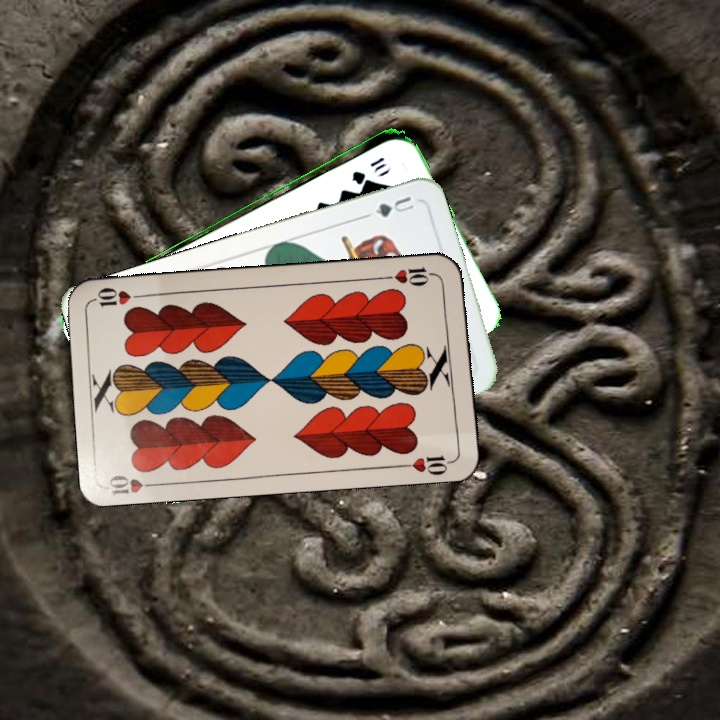G10: (347, 153, 387, 184)
GU: (371, 192, 417, 220)
H10: (104, 469, 164, 497), (380, 263, 440, 289)
